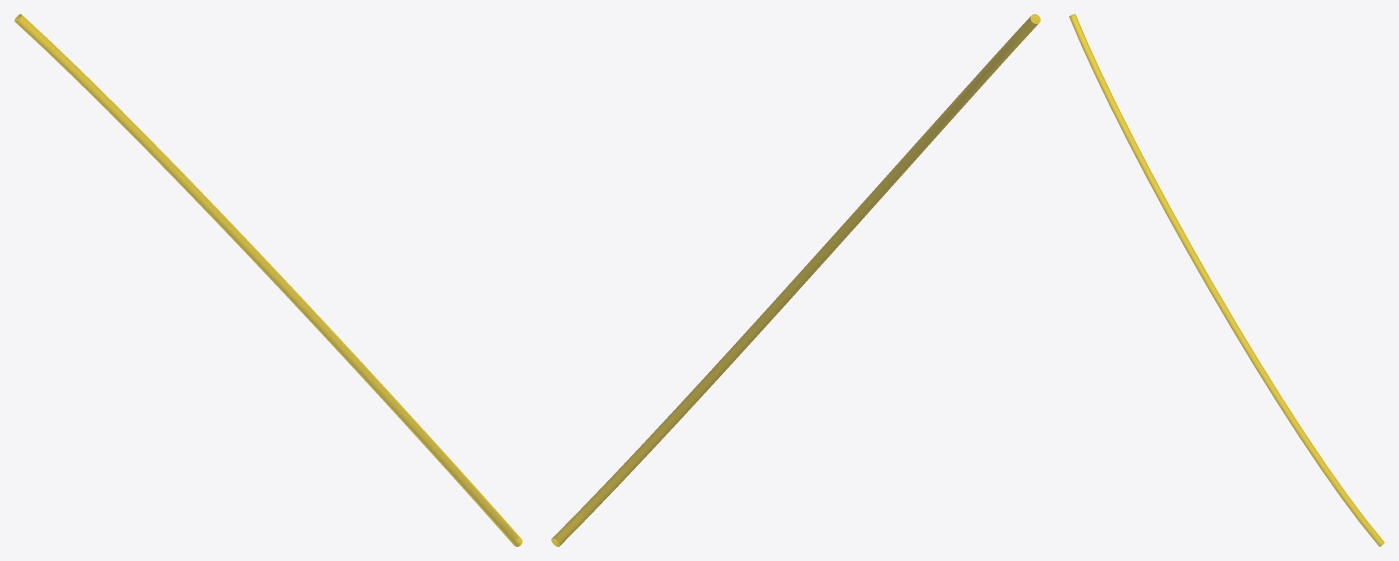
File: Event_17758602_track_18.fbx
3 renders of one model, left to right at view 1: azimuth 30°, elevation 25°; view 2: azimuth 150°, elevation 25°; view 3: azimuth 330°, elevation 25°, orthographic. The views are drawn at different scales.
Visible parts, largest first — view 1: Model; view 2: Model; view 3: Model.
Boxes of the visible parts, <box> form: Model: <box>14,14,522,546</box>; Model: <box>551,14,1040,546</box>; Model: <box>1069,14,1384,546</box>.
Size of the model in its own units: 2.17 by 2.71 by 0.3488.
